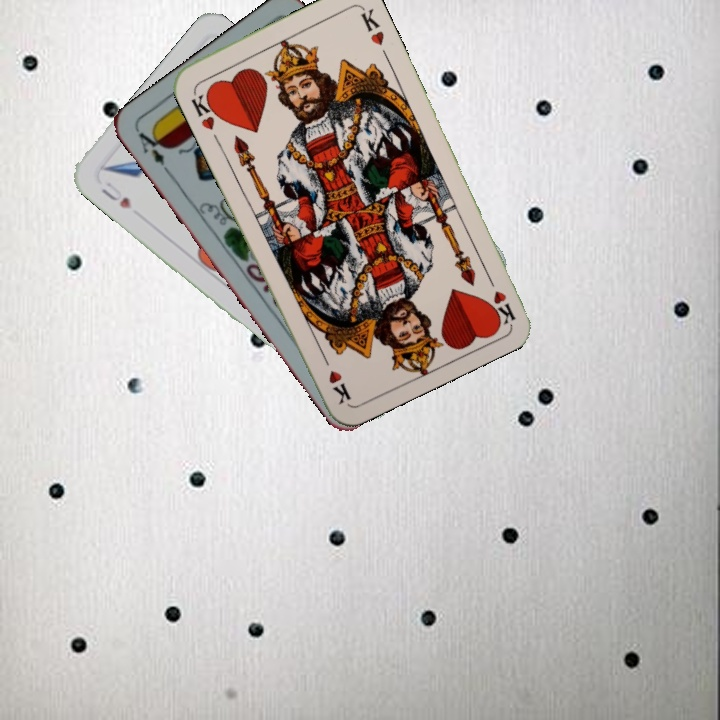EA: (134, 125, 174, 178)
HK: (481, 268, 518, 326), (187, 87, 224, 133)
HU: (97, 177, 134, 212)
